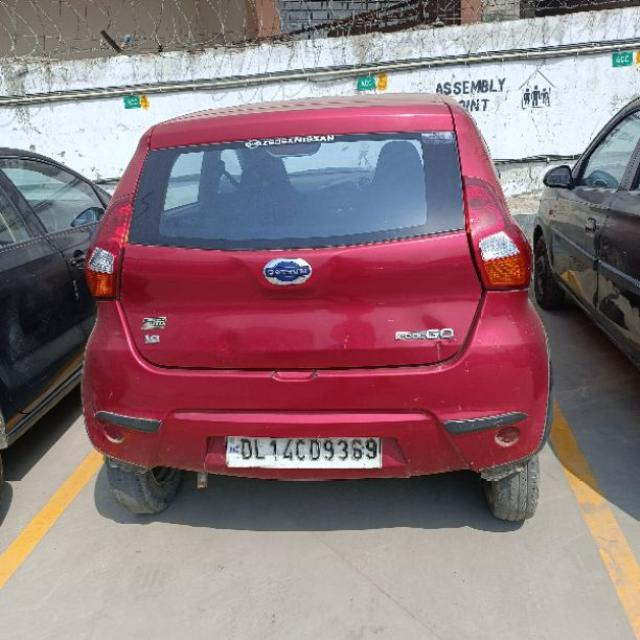license_plate: (222, 434, 382, 470)
